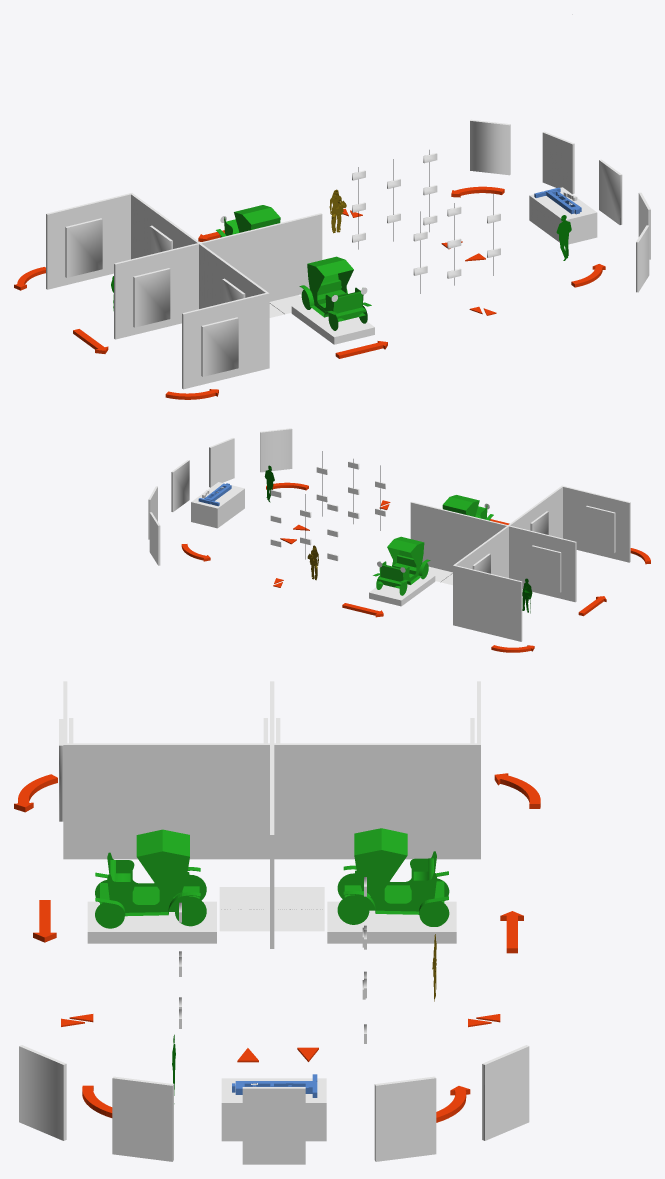
The picture shows the model from 3 angles, top to bottom: view 1: azimuth 30°, elevation 25°; view 2: azimuth 150°, elevation 25°; view 3: azimuth 270°, elevation 25°; orthographic projection. The views are drawn at different scales.
Parts seen in each view (by area): view 1: Mesh04, Mesh01, Group434, Group430, Group433, Group5, Group429, Group418, Group431, Group11, Mesh139, Group409; view 2: Mesh04, Mesh139, Group434, Group409, Group4, Group432, Group435, Group437, Group11, Mesh01, Group430; view 3: Mesh04, Mesh139, Mesh01, Group11, Group418, Group435, Group2, Group409, Group430, Group437, Group431, Group434.
Boxes of the visible parts, x1,y1,x2,y2 form: Mesh04: (46, 193, 322, 389); Mesh01: (299, 256, 371, 330); Group434: (529, 187, 597, 244); Group430: (470, 119, 510, 175); Group433: (201, 317, 238, 376); Group5: (65, 218, 102, 277); Group429: (133, 268, 170, 327); Group418: (542, 131, 574, 194); Group431: (291, 303, 374, 344); Group11: (599, 159, 622, 224); Mesh139: (216, 205, 280, 237); Group409: (636, 225, 649, 292); Mesh04: (410, 485, 630, 641); Mesh139: (373, 536, 430, 595); Group434: (191, 482, 244, 528); Group409: (260, 428, 292, 472); Group4: (531, 545, 561, 592); Group432: (586, 505, 615, 553); Group435: (209, 438, 234, 487); Group437: (369, 574, 435, 606); Group11: (171, 460, 189, 511); Mesh01: (442, 495, 493, 520); Group430: (149, 512, 160, 565); Mesh04: (63, 681, 480, 948); Mesh139: (337, 828, 449, 926); Mesh01: (95, 829, 206, 928); Group11: (242, 1087, 305, 1164); Group418: (374, 1076, 436, 1161); Group435: (112, 1076, 173, 1161); Group2: (219, 887, 324, 931); Group409: (19, 1045, 66, 1140); Group430: (482, 1045, 529, 1140); Group437: (327, 901, 456, 943); Group431: (87, 901, 216, 943); Group434: (221, 1078, 326, 1141).
Size of what is drawn, in the model's own units: 1006 by 145 by 597.
